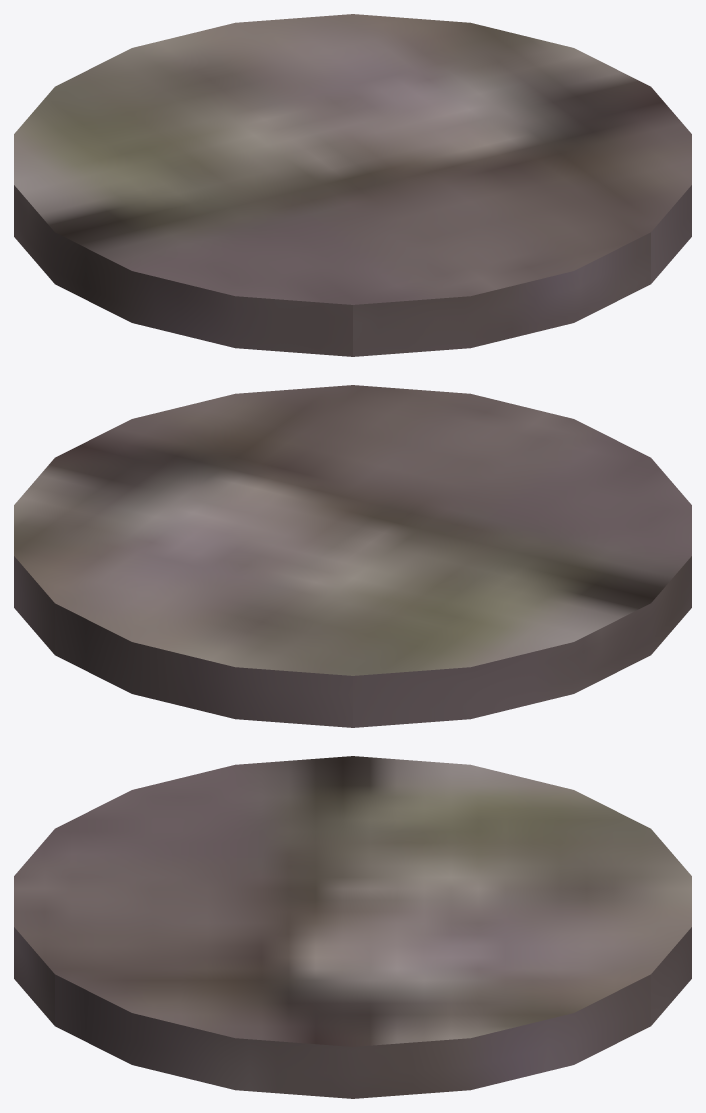
File: JumpPlatform.fbx
3 renders of one model, top to bottom at view 1: azimuth 30°, elevation 25°; view 2: azimuth 150°, elevation 25°; view 3: azimuth 270°, elevation 25°, orthographic.
Visible parts, largest first — view 1: JumpPlatform; view 2: JumpPlatform; view 3: JumpPlatform.
Part boxes in pixels (box(x1,y1,x2,y2)): JumpPlatform: box(14, 14, 691, 356); JumpPlatform: box(14, 385, 691, 727); JumpPlatform: box(14, 756, 691, 1098).
Bounding box in the file's own units: 12 × 1 × 11.82.
